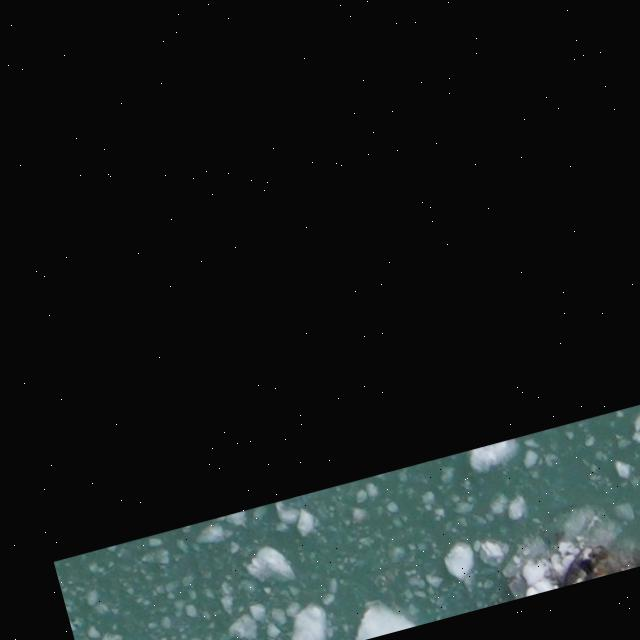seal: (549, 539, 603, 587)
